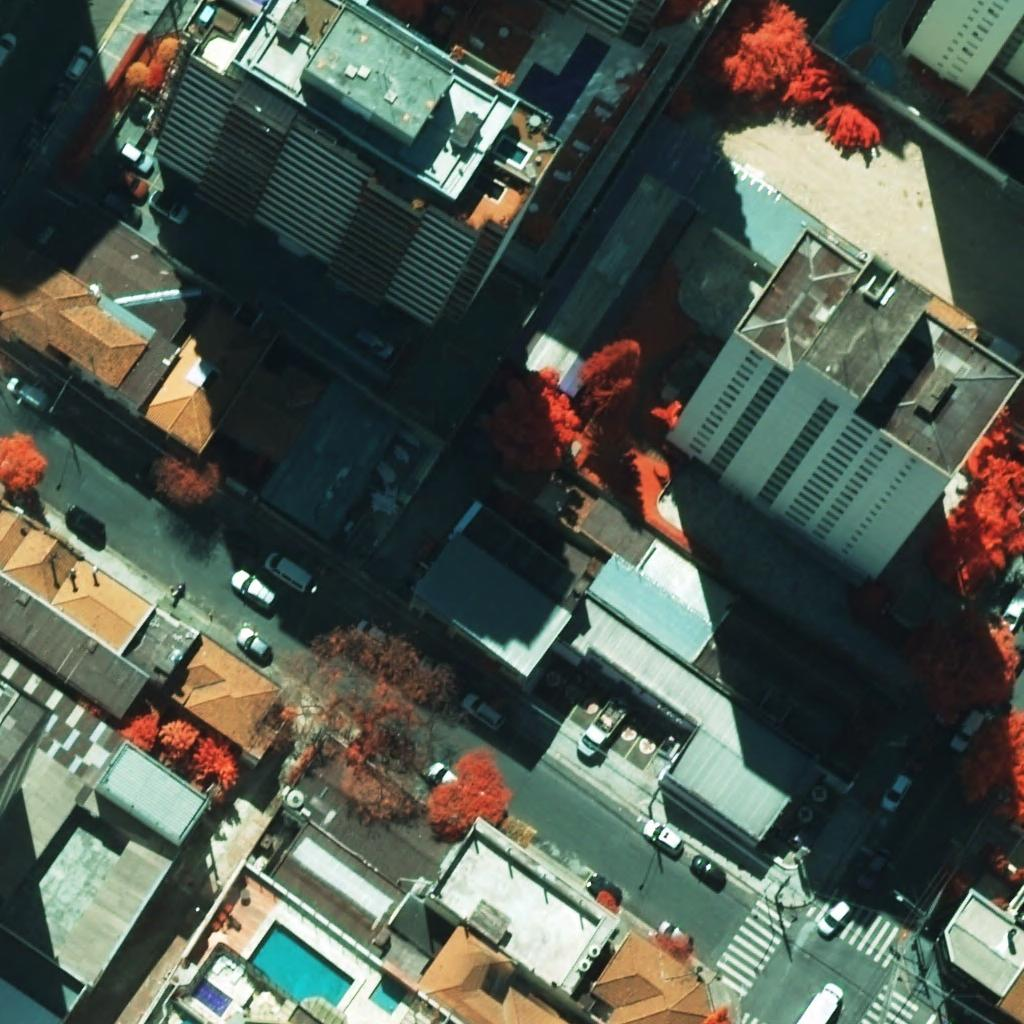pool: (247, 920, 354, 1008), (515, 32, 610, 123), (831, 0, 895, 96), (192, 978, 233, 1017), (369, 976, 408, 1015), (497, 139, 527, 164)
